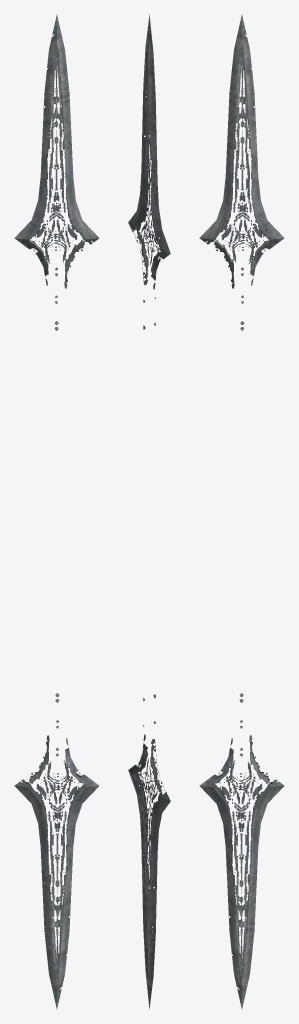
File: wp_mle_lance_kashyyk_bladestick_l0.fbx
3 renders of one model, left to right at view 1: azimuth 90°, elevation 25°; view 2: azimuth 210°, elevation 25°; view 3: azimuth 270°, elevation 25°, orthographic.
Parts seen in each view (by area): view 1: mesh_node; view 2: mesh_node; view 3: mesh_node.
Part boxes in pixels (left/top/right/bottom): mesh_node: left=14, top=15, right=99, bottom=1008; mesh_node: left=128, top=14, right=170, bottom=1009; mesh_node: left=199, top=15, right=284, bottom=1008.
Size of the model in its own units: 0.0496 by 2.59 by 0.2008.
Materials: 1 (1 with a texture image).
